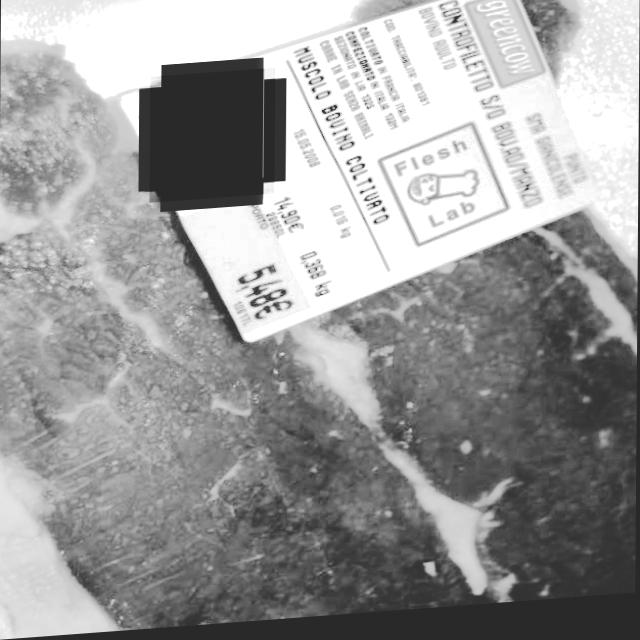qr_code: (149, 72, 274, 205)
